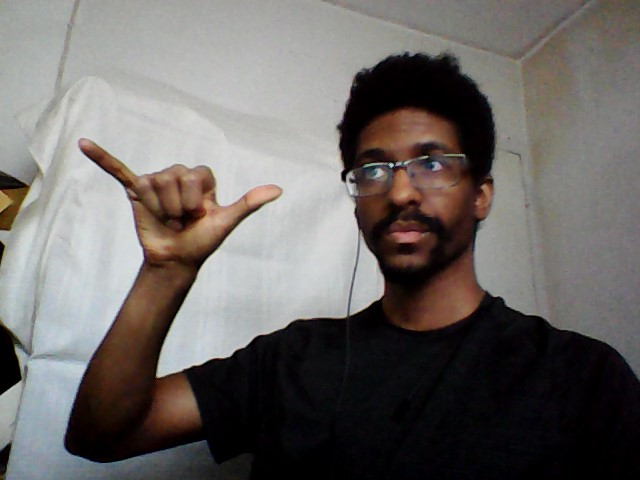y: (73, 132, 288, 268)
